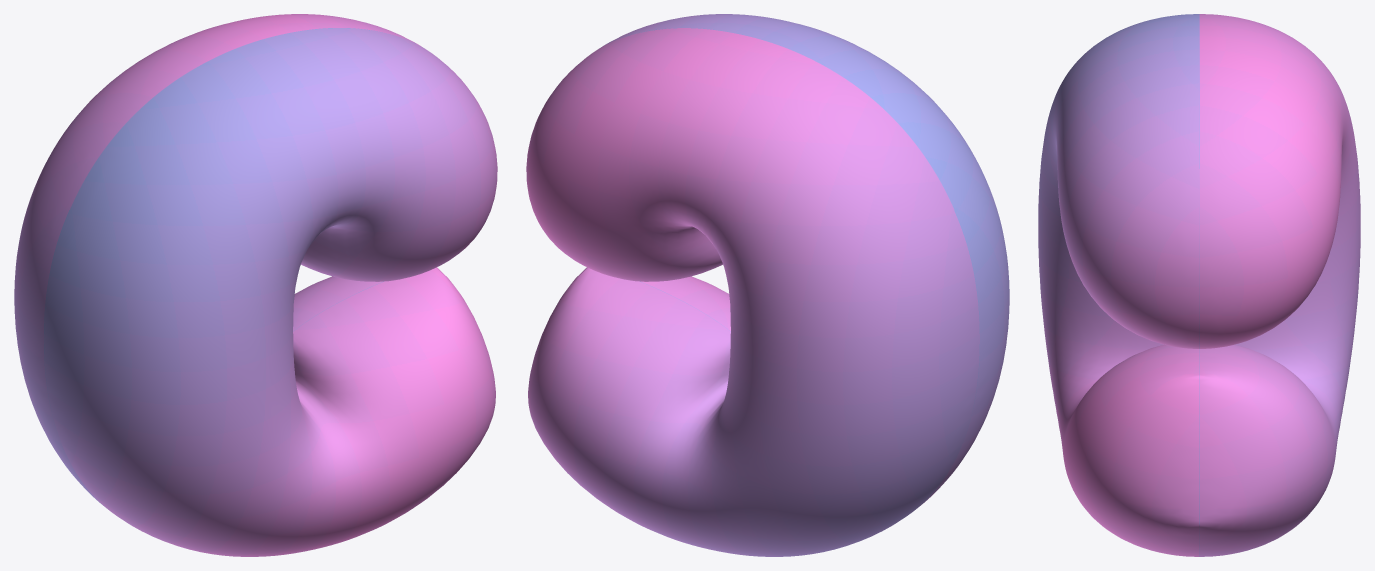
The picture shows the model from 3 angles, left to right: view 1: azimuth 30°, elevation 25°; view 2: azimuth 150°, elevation 25°; view 3: azimuth 270°, elevation 25°; orthographic projection. The views are drawn at different scales.
Bounding box in the file's own units: 0.0192 × 0.0211 × 0.0128.
Materials: 1 (1 with a texture image).
